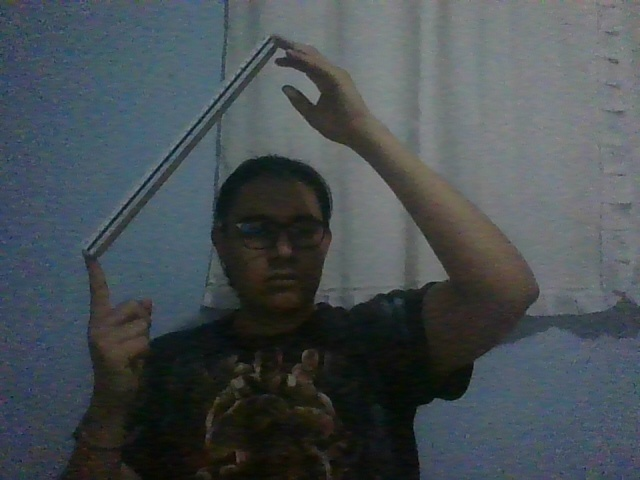regla: (81, 35, 277, 257)
